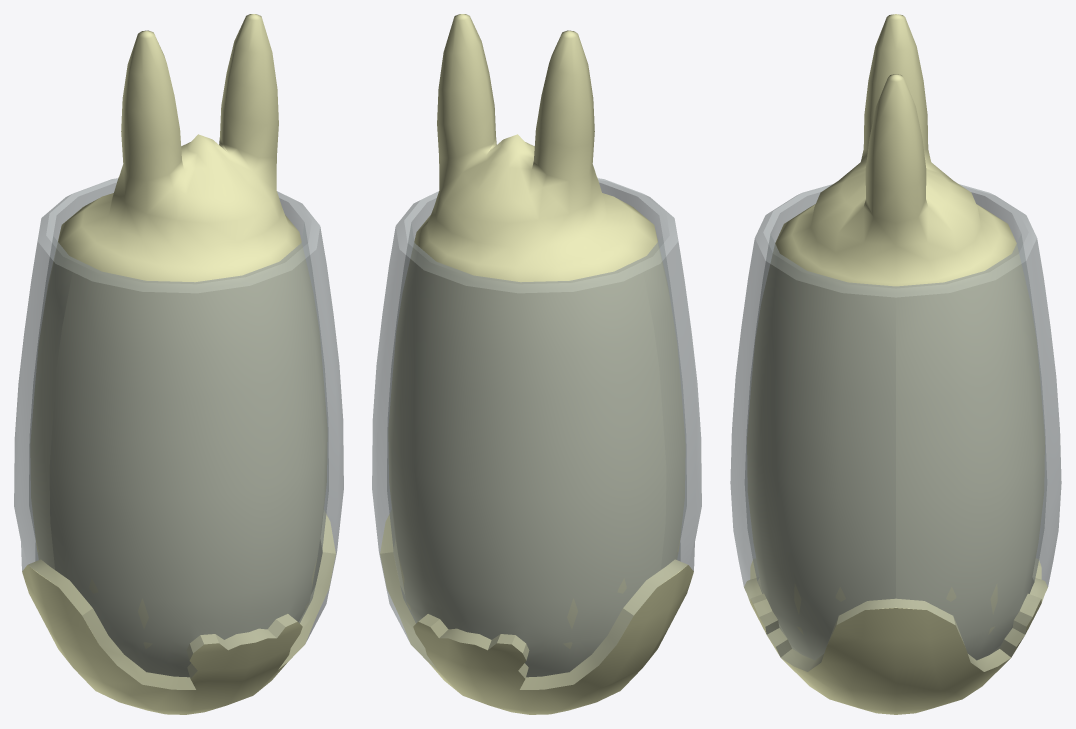
File: PROPS_GOODS_CAPPUCCINO_MODEL_grp.fbx
3 renders of one model, left to right at view 1: azimuth 30°, elevation 25°; view 2: azimuth 150°, elevation 25°; view 3: azimuth 270°, elevation 25°, orthographic.
Parts seen in each view (by area): view 1: PROPS_GOODS_CAPPUCCINO_MODEL, PROPS_GOODS_CAPPUCCINO_MODEL_grp_PROPS_GOODS_CAPPUCCINO_GLAS; view 2: PROPS_GOODS_CAPPUCCINO_MODEL, PROPS_GOODS_CAPPUCCINO_MODEL_grp_PROPS_GOODS_CAPPUCCINO_GLAS; view 3: PROPS_GOODS_CAPPUCCINO_MODEL_grp_PROPS_GOODS_CAPPUCCINO_GLAS, PROPS_GOODS_CAPPUCCINO_MODEL.
Part boxes in pixels (x1,y1,x2,y2): PROPS_GOODS_CAPPUCCINO_MODEL: (30, 14, 327, 676); PROPS_GOODS_CAPPUCCINO_MODEL_grp_PROPS_GOODS_CAPPUCCINO_GLAS: (14, 178, 343, 714); PROPS_GOODS_CAPPUCCINO_MODEL: (388, 14, 685, 676); PROPS_GOODS_CAPPUCCINO_MODEL_grp_PROPS_GOODS_CAPPUCCINO_GLAS: (372, 178, 701, 714); PROPS_GOODS_CAPPUCCINO_MODEL_grp_PROPS_GOODS_CAPPUCCINO_GLAS: (730, 184, 1061, 714); PROPS_GOODS_CAPPUCCINO_MODEL: (747, 14, 1044, 659).
Bounding box in the file's own units: 8.58 × 18.94 × 8.57.
